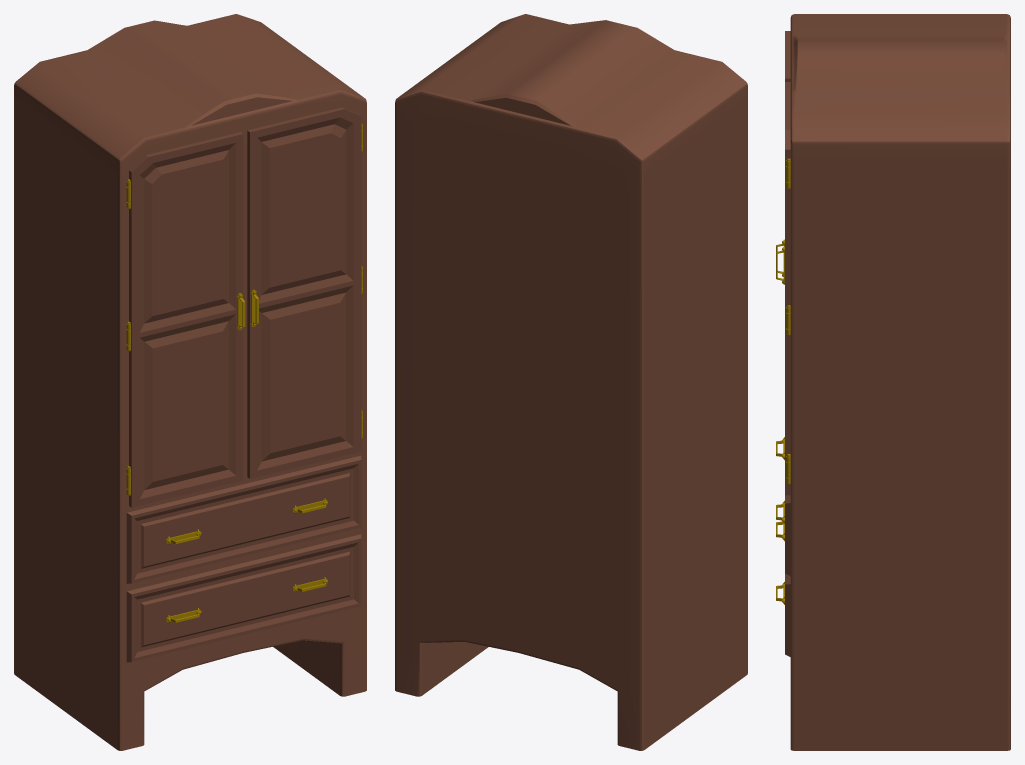
The model's file is Dresser_New.fbx.
3 views of the same model, side by side, from view 1: azimuth 30°, elevation 25°; view 2: azimuth 150°, elevation 25°; view 3: azimuth 270°, elevation 25° (orthographic). The views are drawn at different scales.
Parts seen in each view (by area): view 1: polySurface42; view 2: polySurface42; view 3: polySurface42.
Part boxes in pixels (<box>): polySurface42: <box>14,14,366,750</box>; polySurface42: <box>395,14,747,750</box>; polySurface42: <box>776,14,1010,750</box>.
Bounding box in the file's own units: 254 × 607 × 202.
